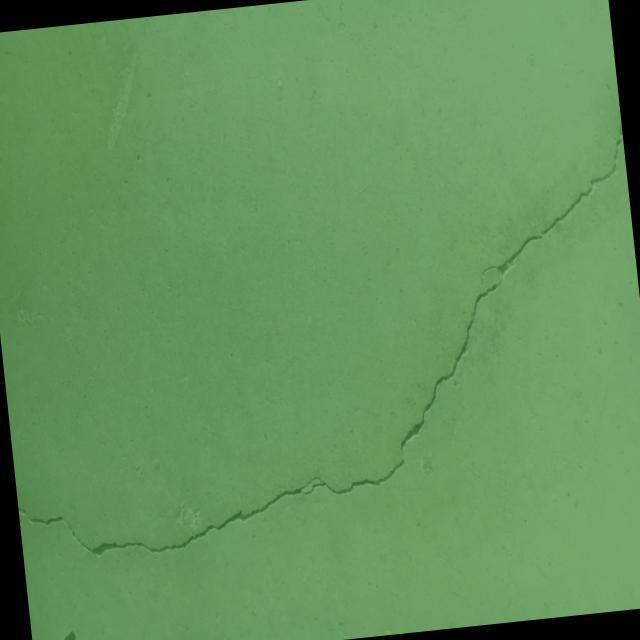crack: (48, 279, 527, 562), (463, 121, 636, 286), (18, 502, 65, 528)
